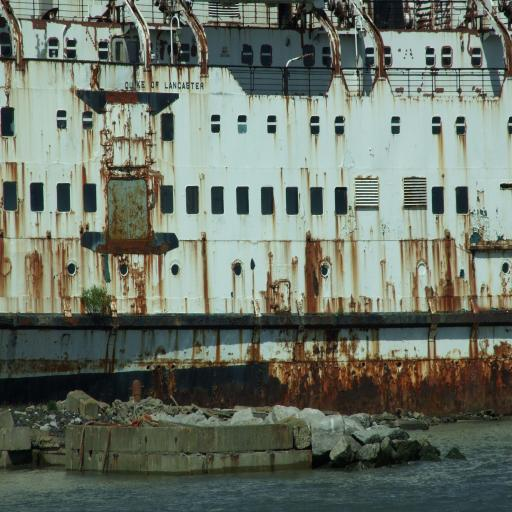segmentation: (0, 314, 512, 416), (81, 127, 178, 254), (50, 239, 80, 316), (305, 240, 331, 312), (266, 252, 292, 313), (185, 8, 208, 76), (364, 16, 387, 83), (488, 12, 512, 76), (25, 18, 111, 33), (131, 256, 147, 314), (25, 250, 43, 297), (313, 4, 336, 34), (32, 8, 58, 29), (0, 61, 11, 106), (0, 237, 12, 278), (105, 91, 138, 104), (202, 232, 208, 302), (438, 294, 460, 311), (0, 79, 10, 105), (5, 162, 18, 181), (90, 64, 99, 90), (335, 40, 341, 73), (119, 256, 128, 278), (41, 240, 52, 254), (481, 0, 488, 10), (92, 32, 96, 47), (112, 23, 120, 28), (205, 302, 208, 312)
